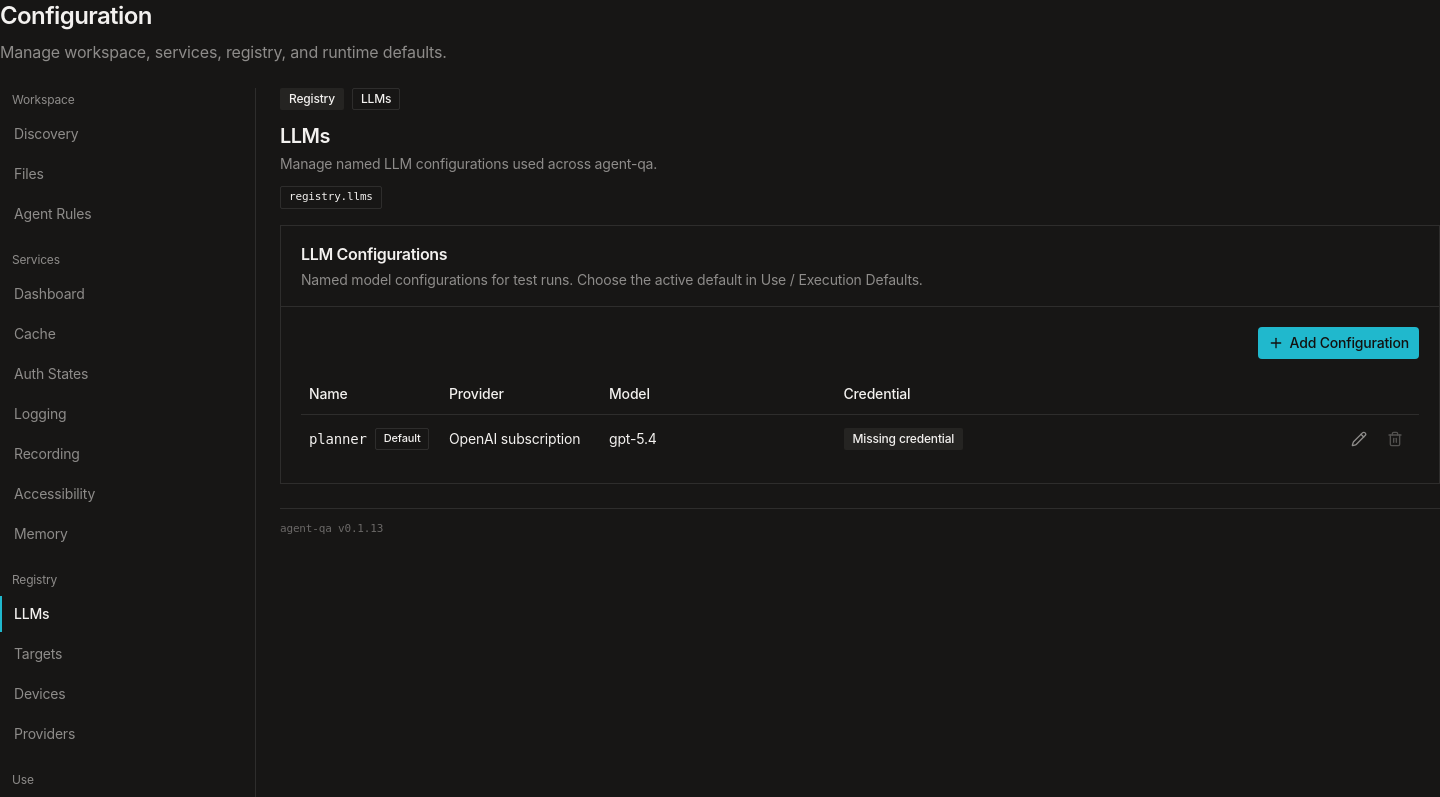
Test case: ConfigPage schema-driven shell › keeps first-party subscription auth UI available
The image size is (1440, 797).
Click the button titled "Edit configuration": (1359, 439) [1343,423,1375,455]
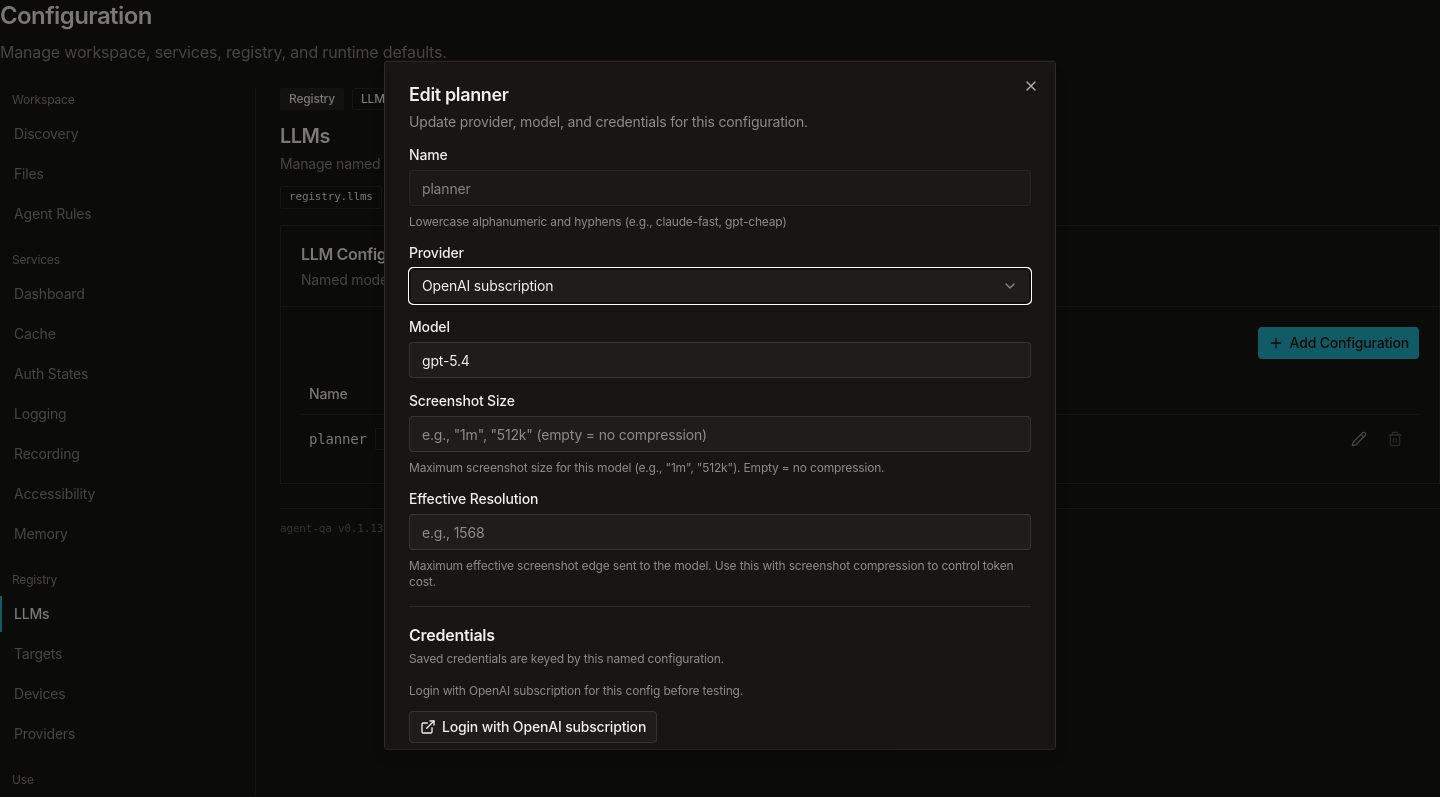
Expected: the text "Login with OpenAI subscription" is shown, [409,683,743,698]
